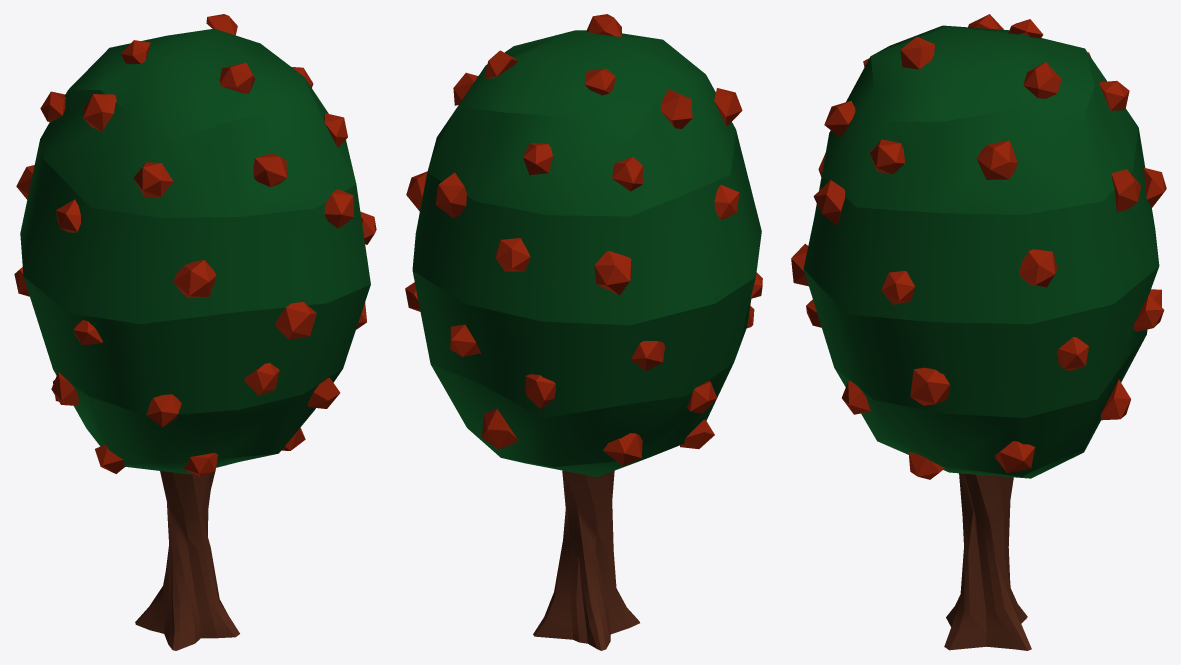
File: Tree_2_Medium_WF.fbx
The picture shows the model from 3 angles, left to right: view 1: azimuth 30°, elevation 25°; view 2: azimuth 150°, elevation 25°; view 3: azimuth 270°, elevation 25°; orthographic projection. The views are drawn at different scales.
Parts seen in each view (by area): view 1: Tree_2_Medium_WF; view 2: Tree_2_Medium_WF; view 3: Tree_2_Medium_WF.
Boxes of the visible parts, x1,y1,x2,y2 form: Tree_2_Medium_WF: (14, 14, 376, 650); Tree_2_Medium_WF: (405, 14, 762, 650); Tree_2_Medium_WF: (791, 14, 1166, 650).
Bounding box in the file's own units: 102 × 190 × 108.
